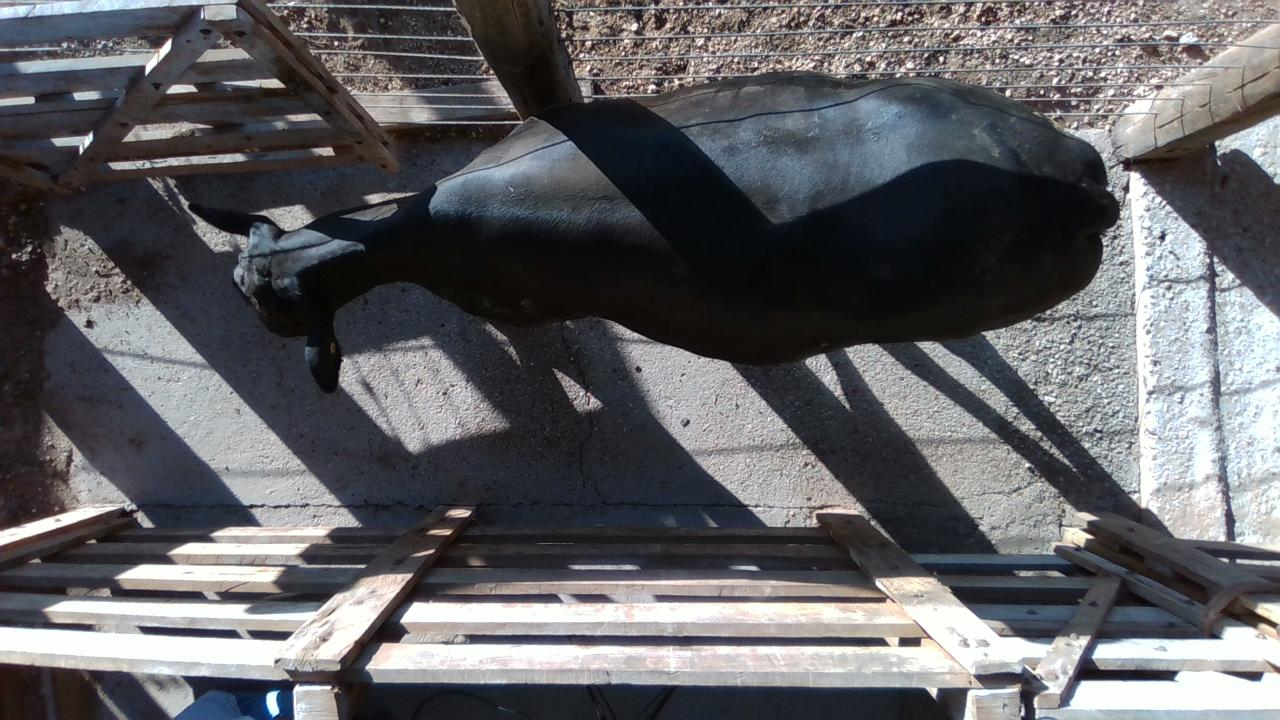cattle: (188, 69, 1120, 393)
